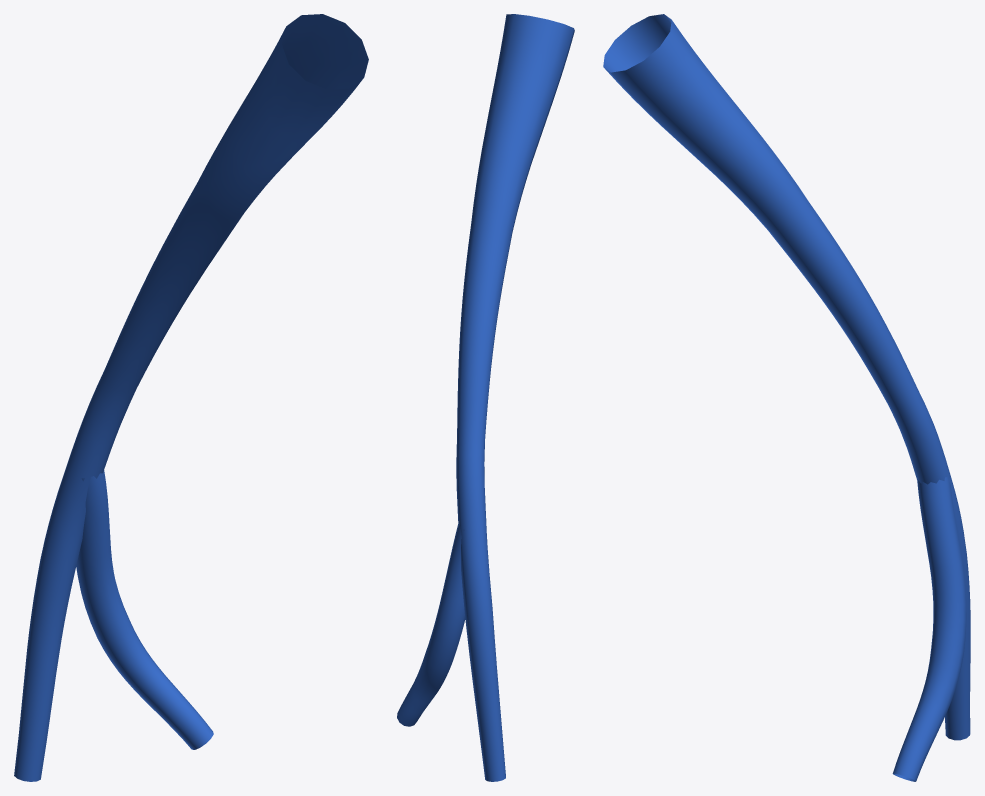
Rendered from circulatorio-posterior-basal-segmental-artery-of-right-lung.glb.
3 renders of one model, left to right at view 1: azimuth 30°, elevation 25°; view 2: azimuth 150°, elevation 25°; view 3: azimuth 270°, elevation 25°, orthographic. The views are drawn at different scales.
Parts seen in each view (by area): view 1: Posterior basal segmental artery of right lung; view 2: Posterior basal segmental artery of right lung; view 3: Posterior basal segmental artery of right lung.
Part boxes in pixels (x1,y1,x2,y2): Posterior basal segmental artery of right lung: (14, 14, 368, 781); Posterior basal segmental artery of right lung: (397, 14, 574, 781); Posterior basal segmental artery of right lung: (603, 14, 970, 781).
Size of the model in its own units: 0.0212 by 0.1006 by 0.0438.
